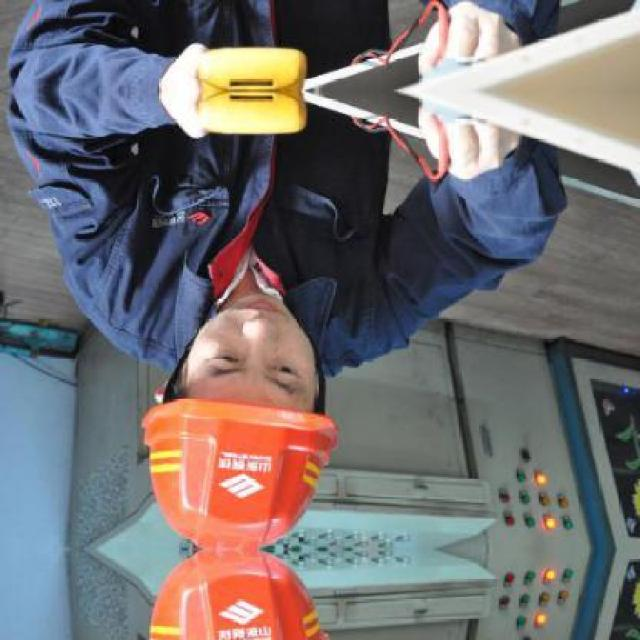safetyhelmet: (135, 350, 336, 554)
